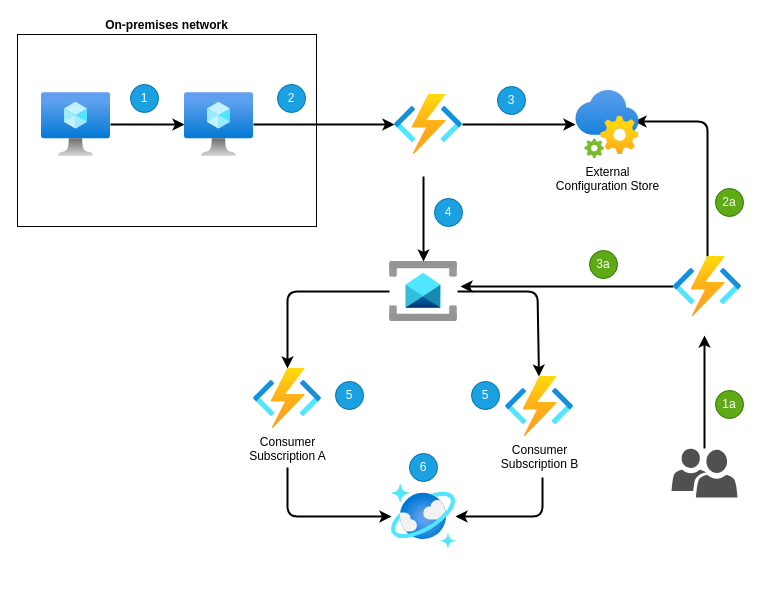
Image size: 775x601. Some labels were removed from this diagram. The shapes that lost their labels are listed below. From the top down, each one's centre as x and y in pixels, then its label:
At [75,124]: "HIS".
At [218,124]: "Proxy MLLP to HTTPS".
At [428,124]: "ProcesHL7Msg".
At [423,291]: "Service Bus Topic".
At [707,286]: "SubscriptionAdmin".
At [704,472]: "Ops Team".
At [423,516]: "Azure CosmosDB".
